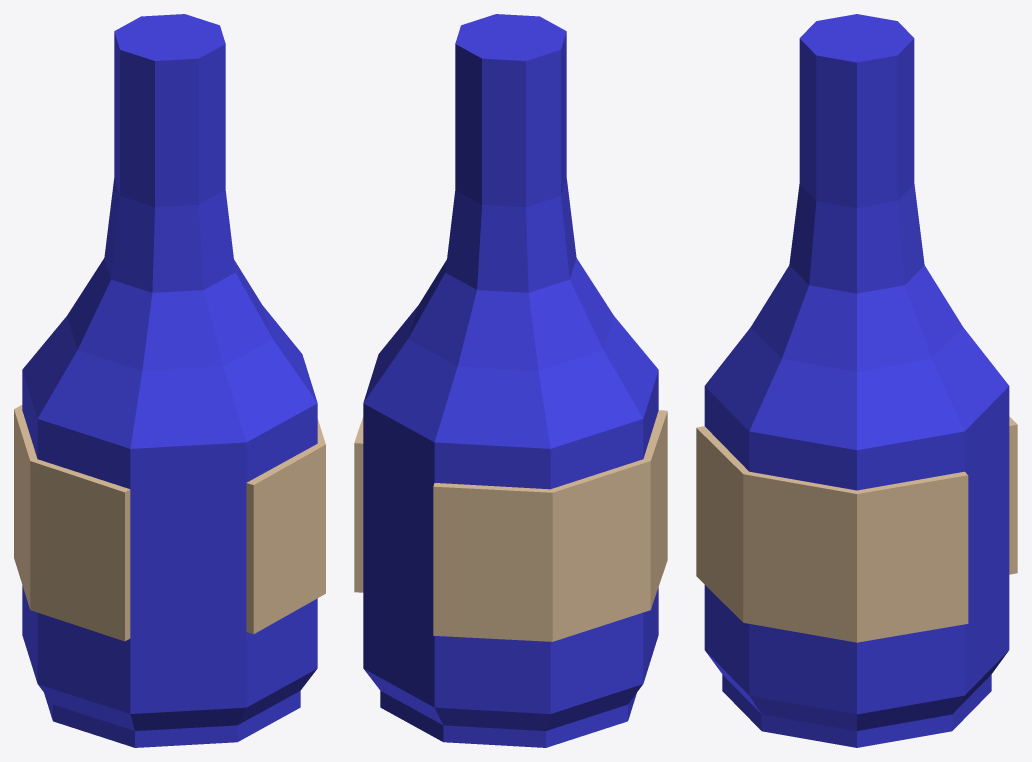
The model's file is Bottle2.fbx.
3 renders of one model, left to right at view 1: azimuth 30°, elevation 25°; view 2: azimuth 150°, elevation 25°; view 3: azimuth 270°, elevation 25°, orthographic.
Visible parts, largest first — view 1: Bottle2; view 2: Bottle2; view 3: Bottle2.
Part boxes in pixels (x1,y1,x2,y2): Bottle2: [14, 14, 325, 747]; Bottle2: [354, 14, 667, 747]; Bottle2: [696, 14, 1017, 747].
Bounding box in the file's own units: 0.2111 × 0.4728 × 0.2111.
